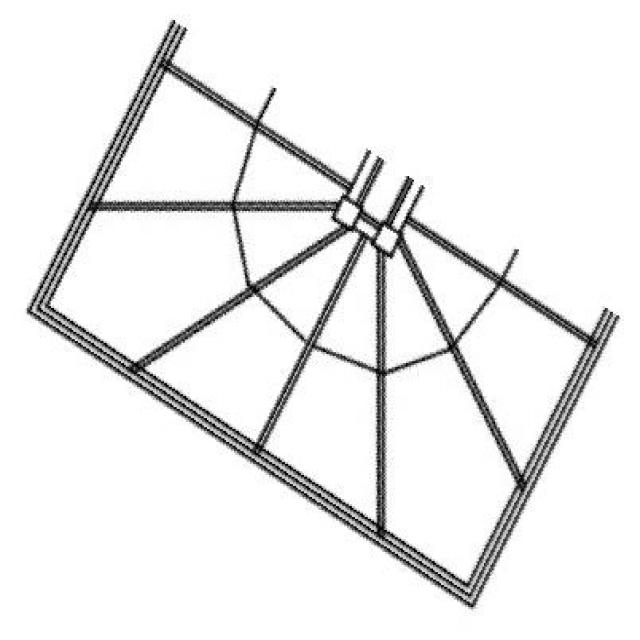stair: (19, 20, 623, 611)
